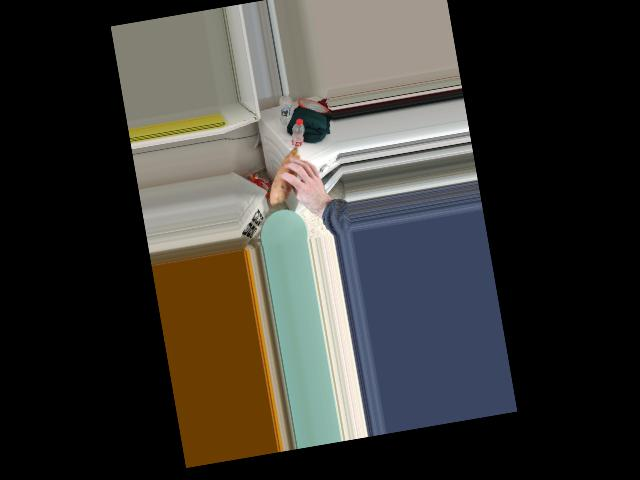sweet_potato: (262, 147, 312, 198)
